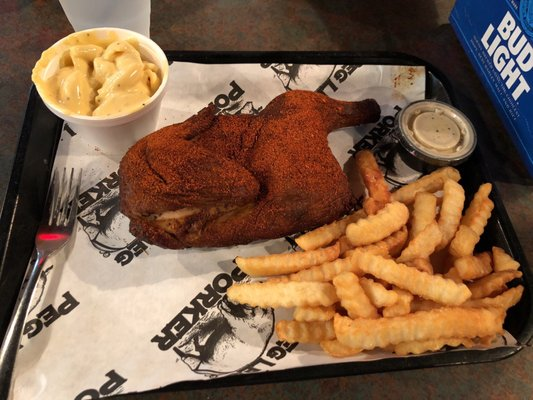sushi: (31, 27, 171, 137), (398, 100, 478, 167)
